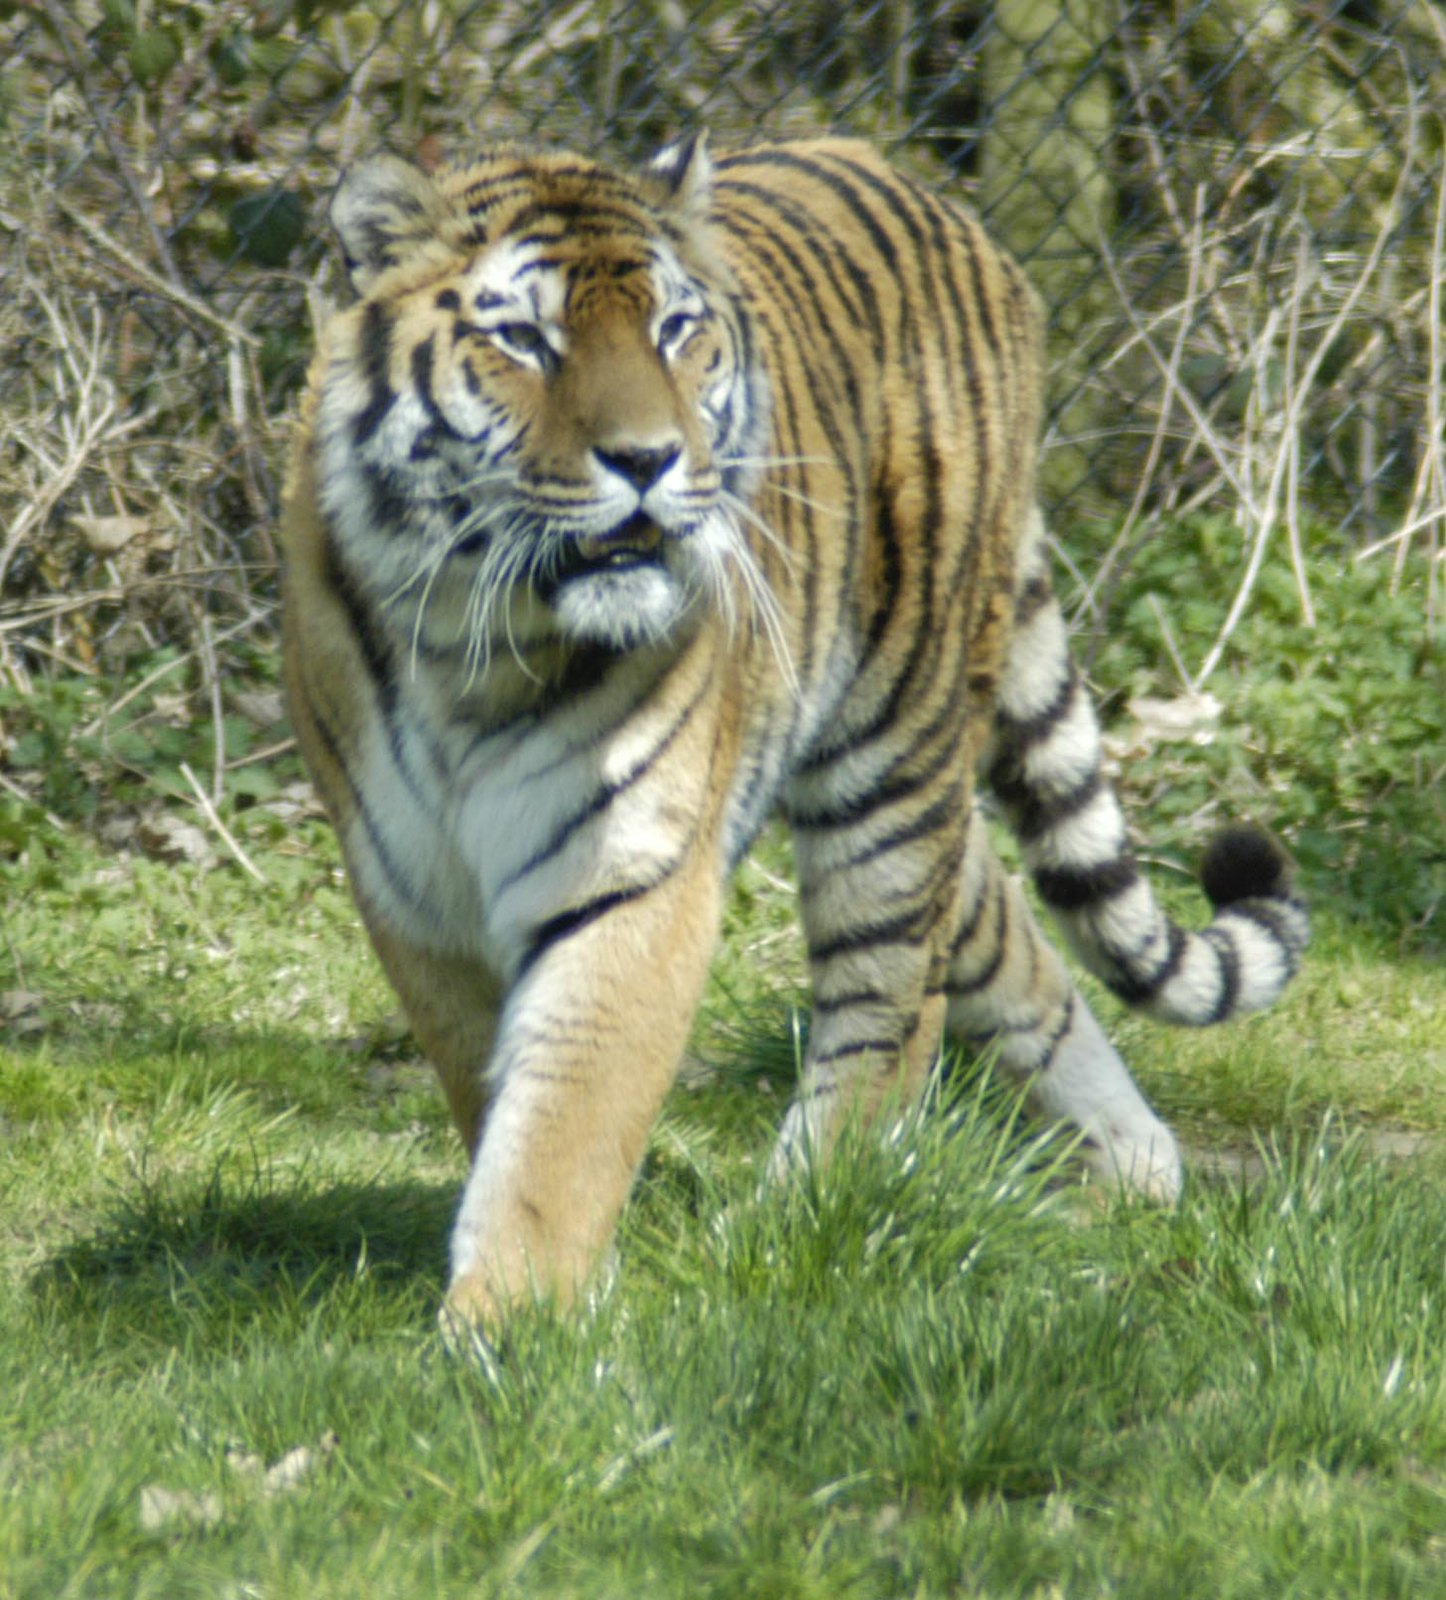Tiger: (305, 125, 1330, 1351)
